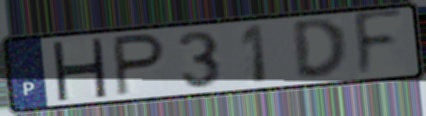1: (238, 22, 268, 87)
3: (176, 29, 225, 90)
D: (289, 16, 351, 81)
F: (351, 6, 406, 82)
H: (48, 37, 109, 101)
P: (111, 31, 168, 99)
